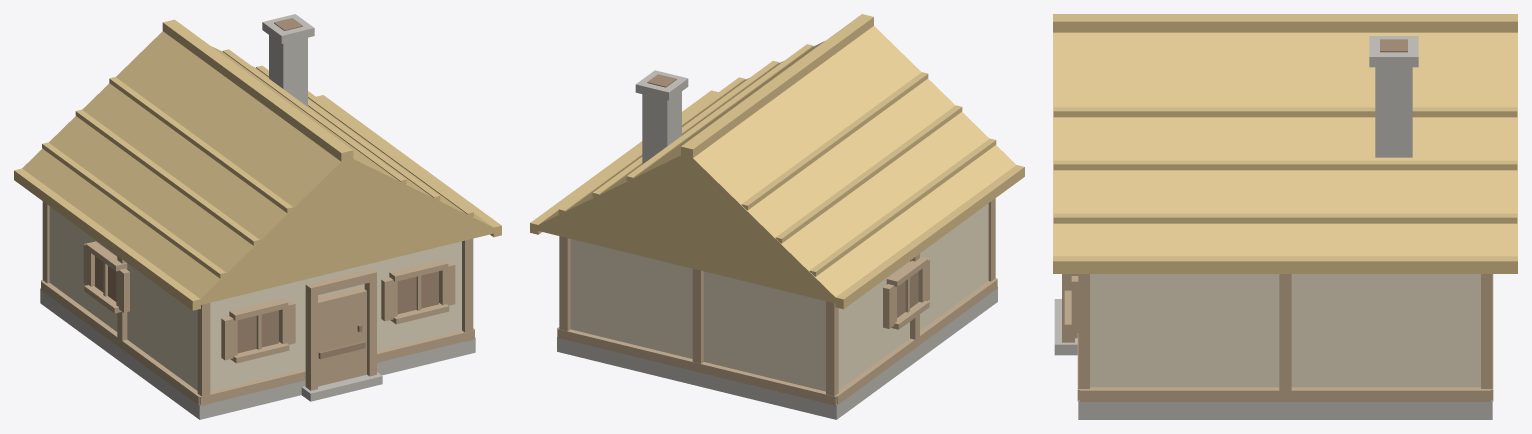
Rendered from house.glb.
3 views of the same model, side by side, from view 1: azimuth 30°, elevation 25°; view 2: azimuth 150°, elevation 25°; view 3: azimuth 270°, elevation 25° (orthographic). The views are drawn at different scales.
Visible parts, largest first — view 1: house_roof, house_wood, house_plaster, house_stone, house_window; view 2: house_roof, house_plaster, house_wood, house_stone, house_window; view 3: house_roof, house_plaster, house_stone, house_wood.
Boxes of the visible parts, bbox=[...] form: house_roof: bbox=[14, 19, 501, 310]; house_wood: bbox=[41, 201, 474, 405]; house_plaster: bbox=[49, 206, 461, 391]; house_stone: bbox=[40, 14, 475, 419]; house_window: bbox=[95, 18, 438, 359]; house_roof: bbox=[530, 14, 1024, 309]; house_plaster: bbox=[570, 203, 988, 391]; house_wood: bbox=[557, 198, 997, 405]; house_stone: bbox=[557, 70, 997, 419]; house_window: bbox=[647, 74, 918, 317]; house_roof: bbox=[1053, 14, 1517, 273]; house_plaster: bbox=[1090, 274, 1480, 387]; house_stone: bbox=[1054, 36, 1492, 419]; house_wood: bbox=[1062, 274, 1493, 401].
Bounding box in the file's own units: 2 × 1.58 × 2.
